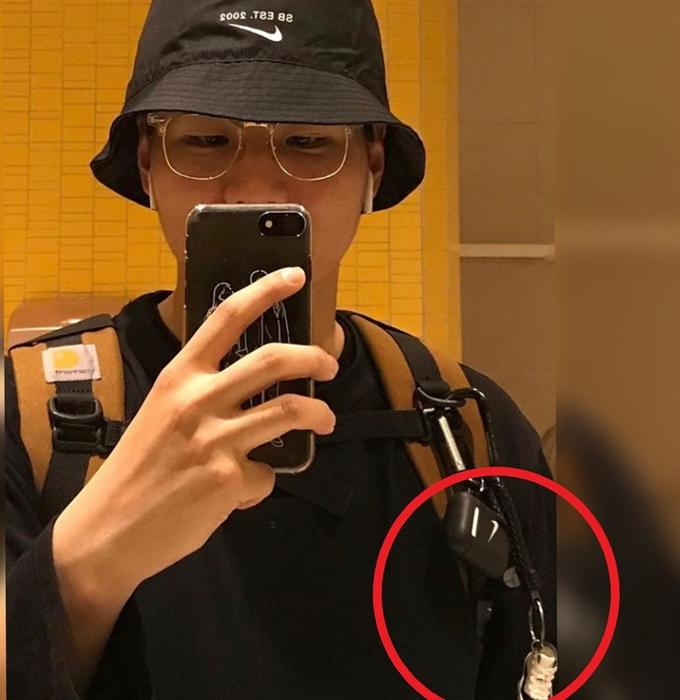earphone: (347, 162, 388, 217), (133, 167, 166, 213)
